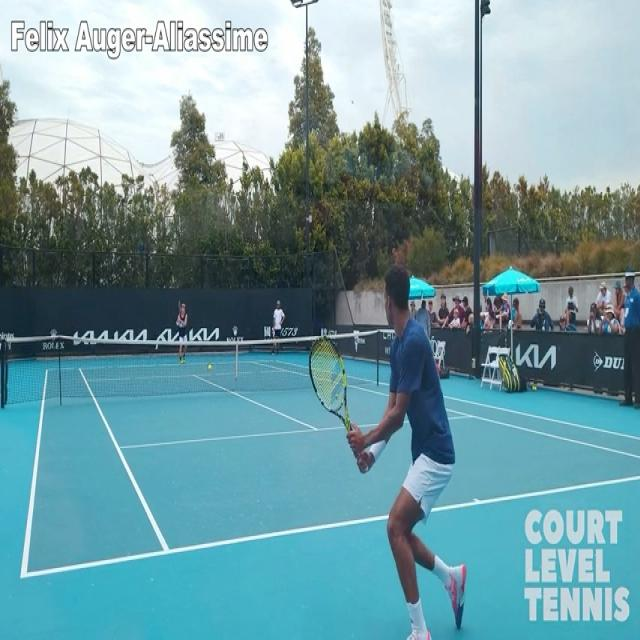backhand-ready: (310, 252, 491, 640)
